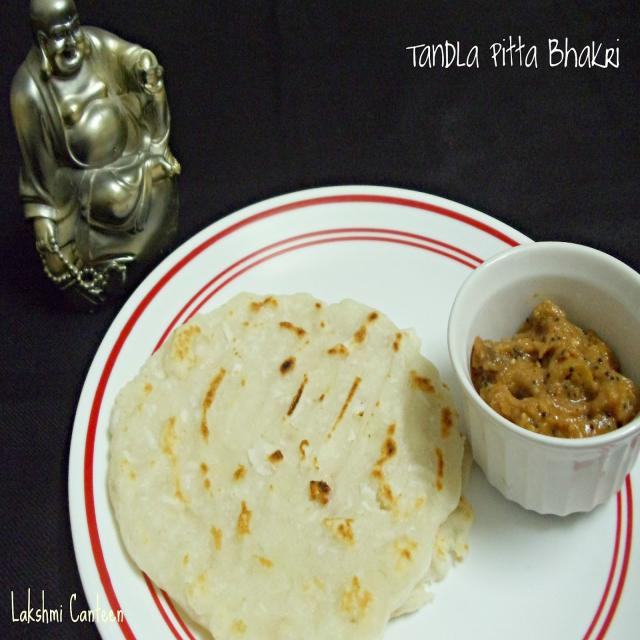ROTI: (108, 294, 464, 639)
